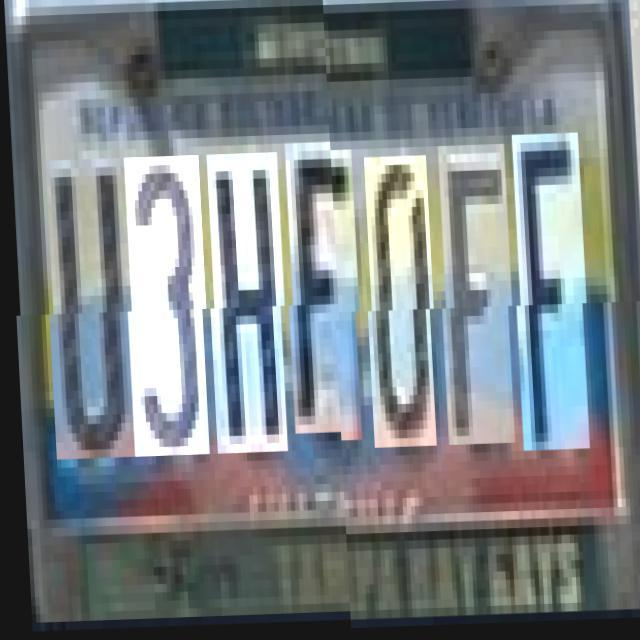0: (362, 158, 436, 450)
3: (123, 165, 210, 466)
F: (510, 138, 589, 454), (436, 148, 514, 448), (283, 152, 361, 444)
H: (205, 162, 288, 464)
U: (44, 168, 135, 468)
